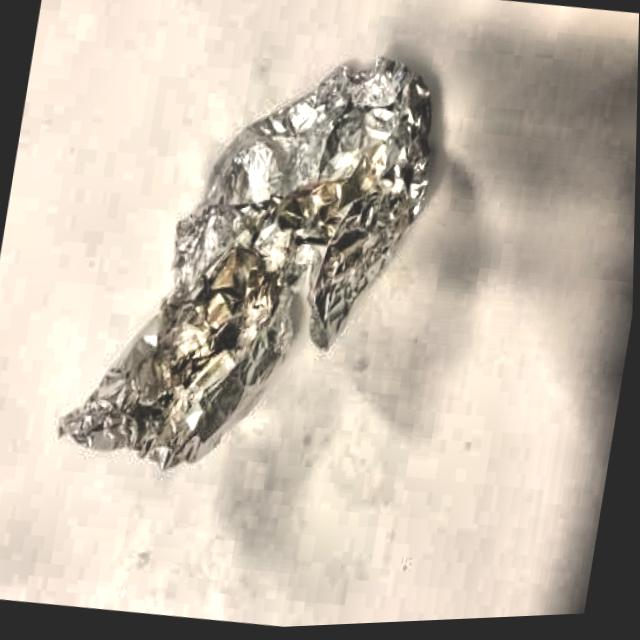Foil: (45, 16, 459, 535)
